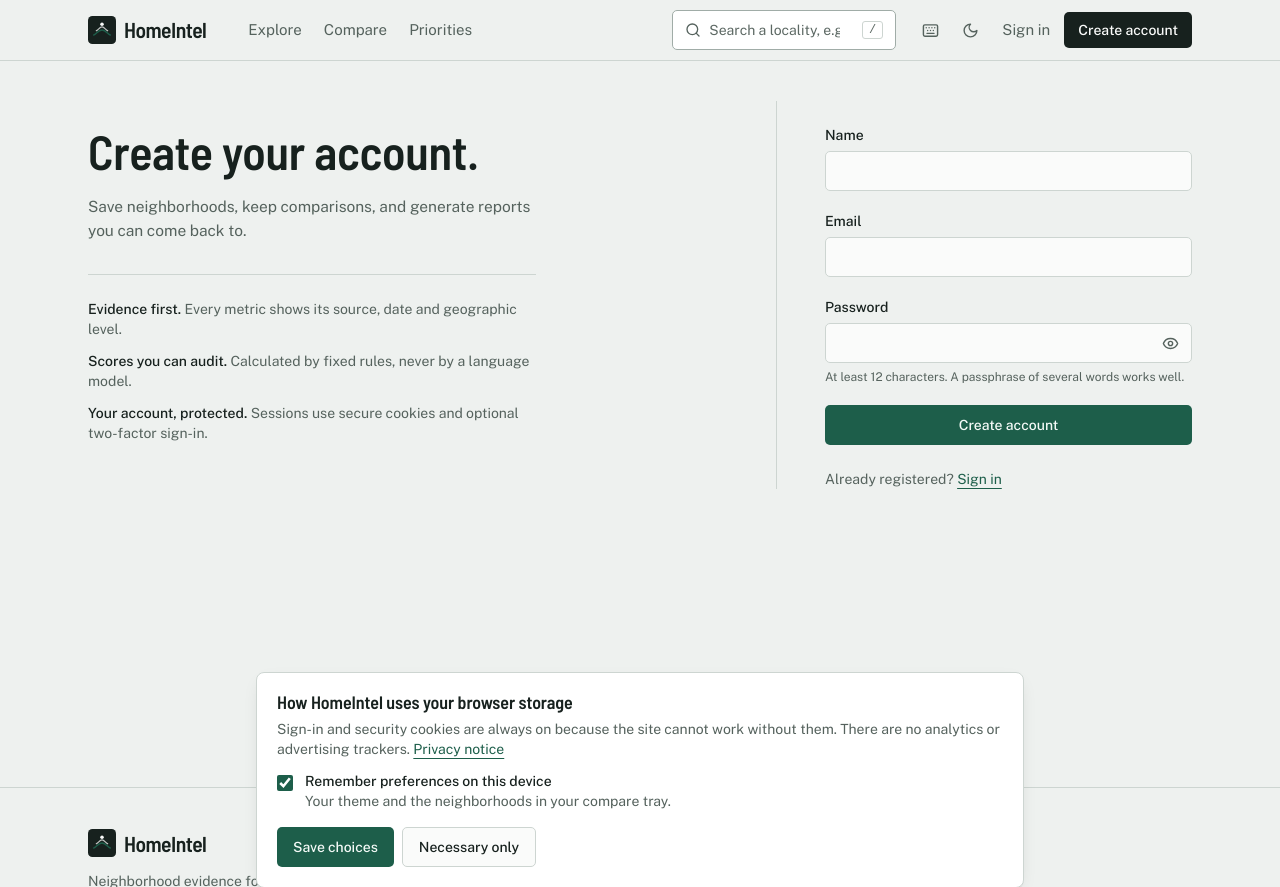
it: register › maps server validation errors onto fields
Type "Ada" into the field labelled "Name".
click(1008, 171); type("Ada")  # box [825,151,1192,191]
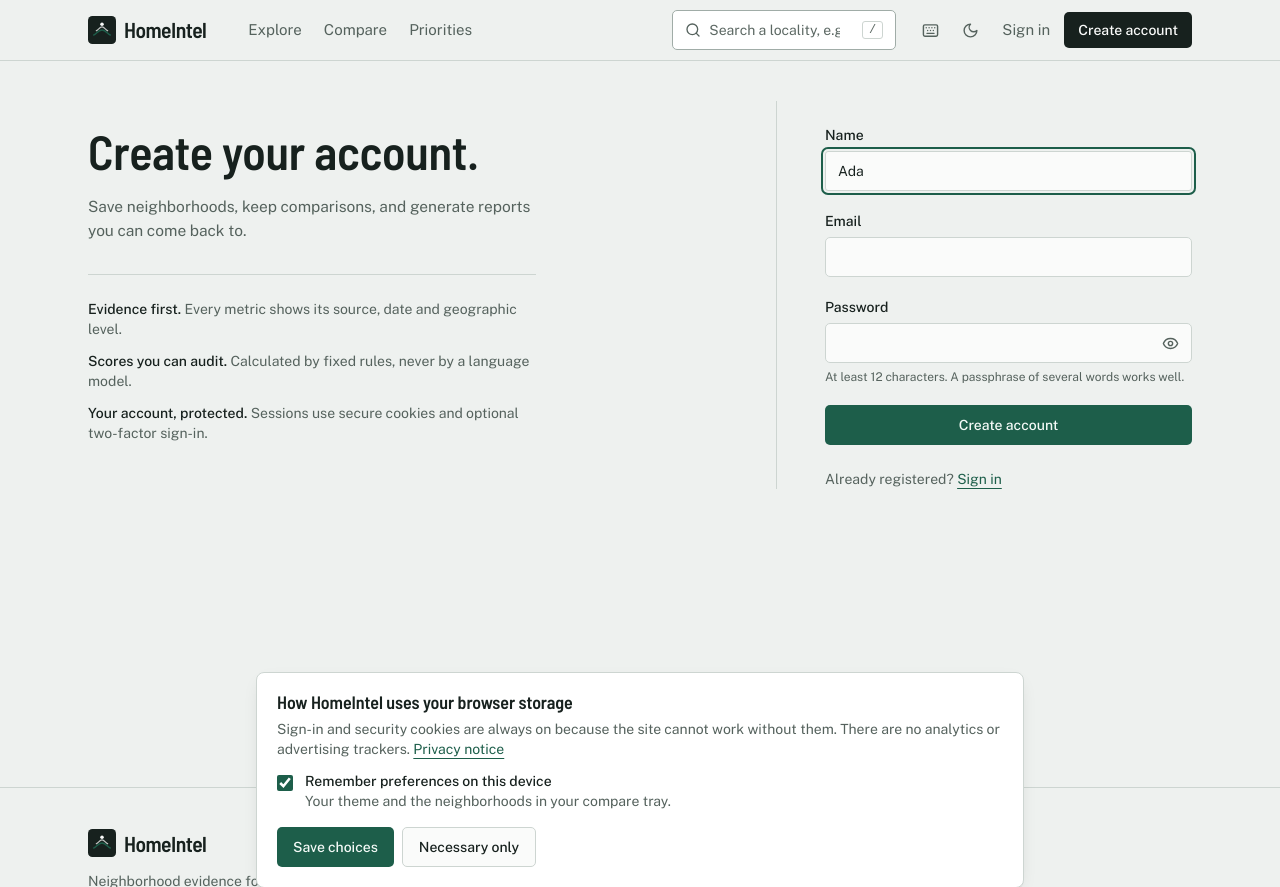
Type "ada@example.com" into the field labelled "Email".
click(1008, 257); type("ada@example.com")  # box [825,237,1192,277]
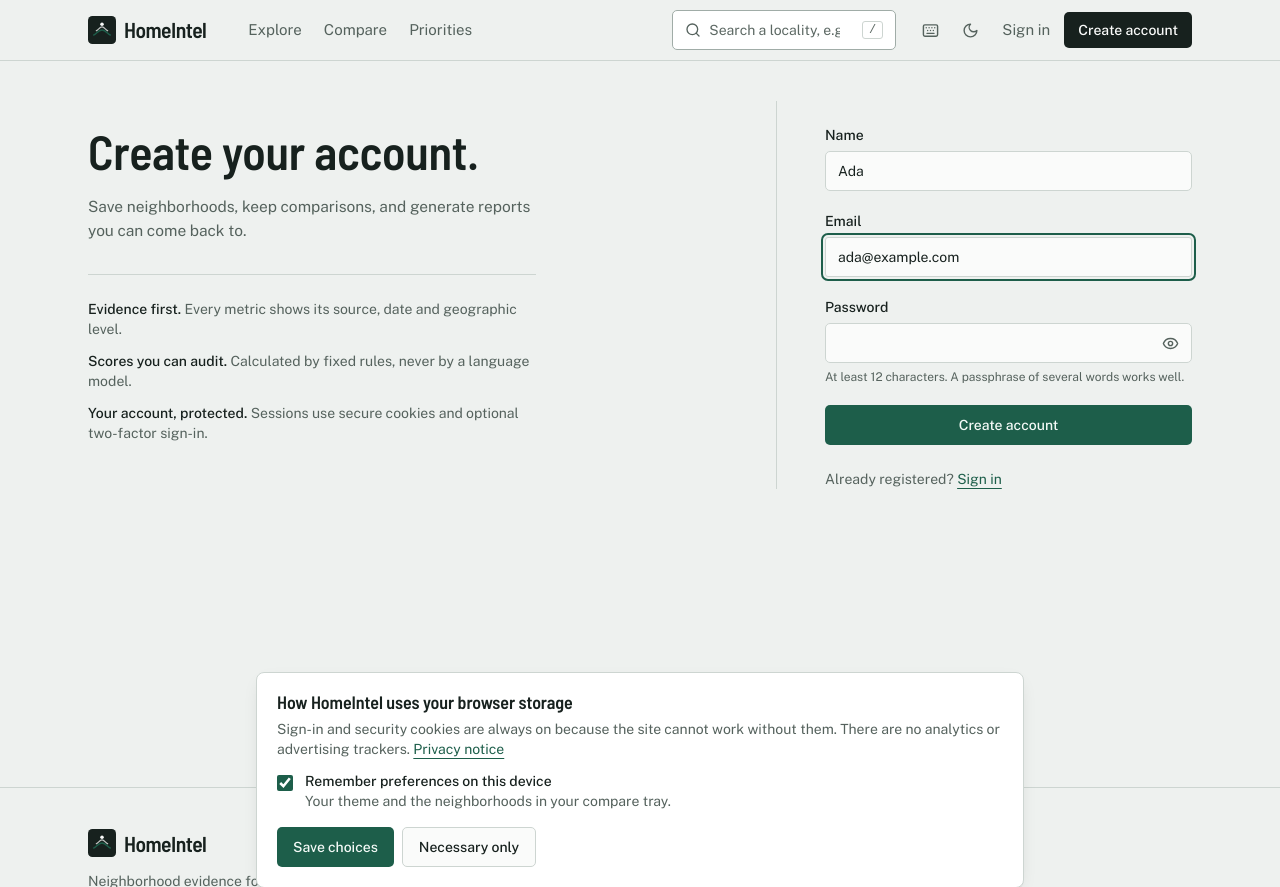
Type "short" into the password field labelled "Password".
click(1008, 343); type("short")  # box [825,323,1192,363]
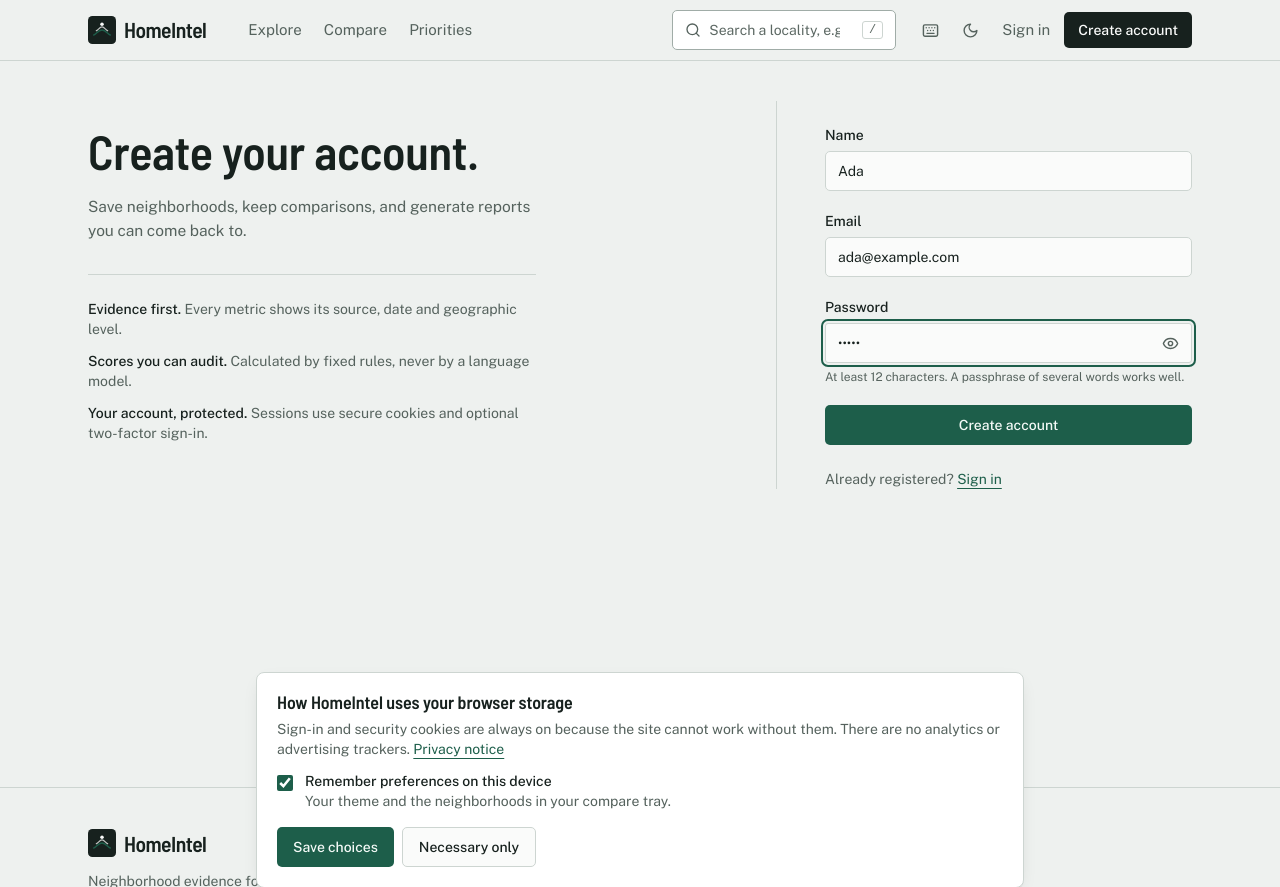
Click the button "Create account".
click(1008, 425)  # box [825,405,1192,445]
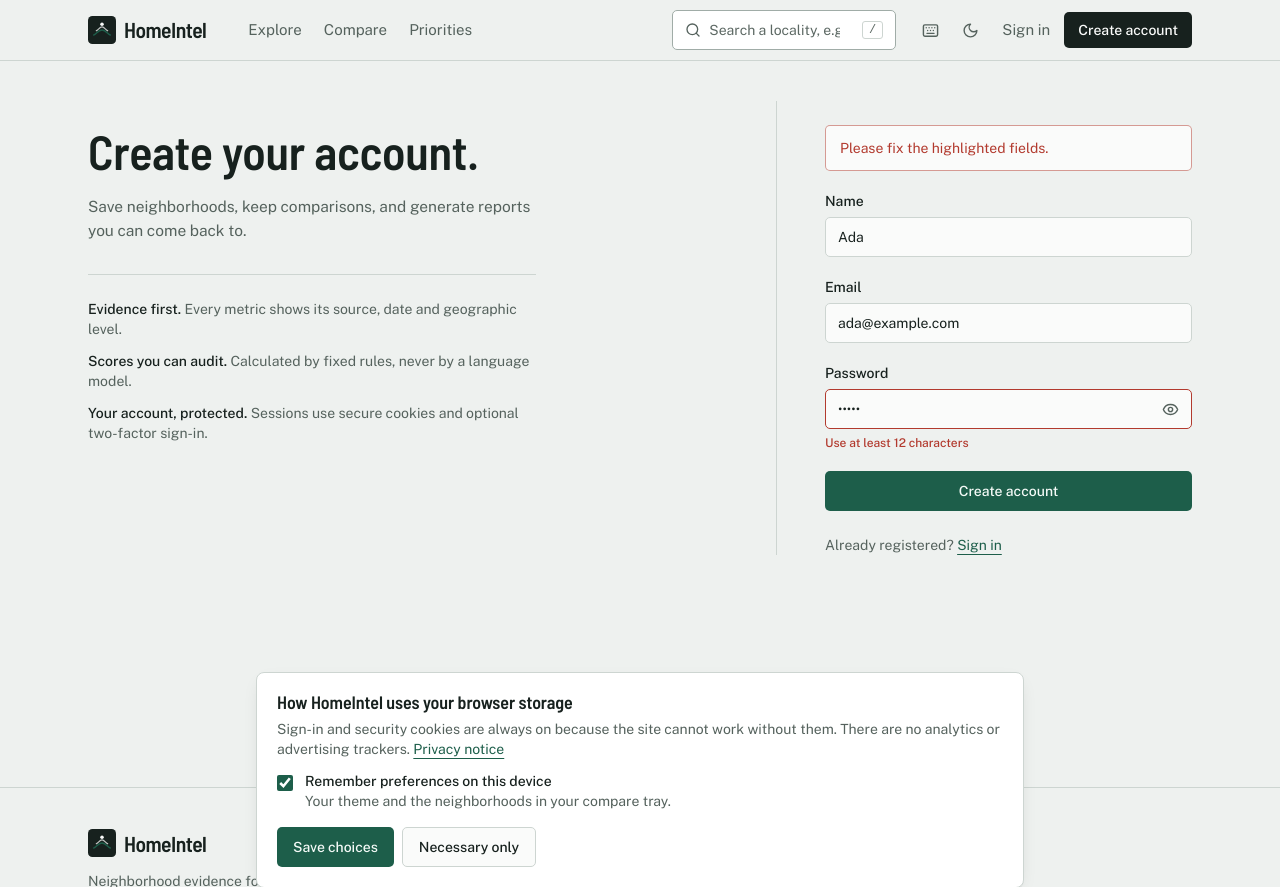
Now the text "Use at least 12 characters" is shown, box [825,436,969,450]
